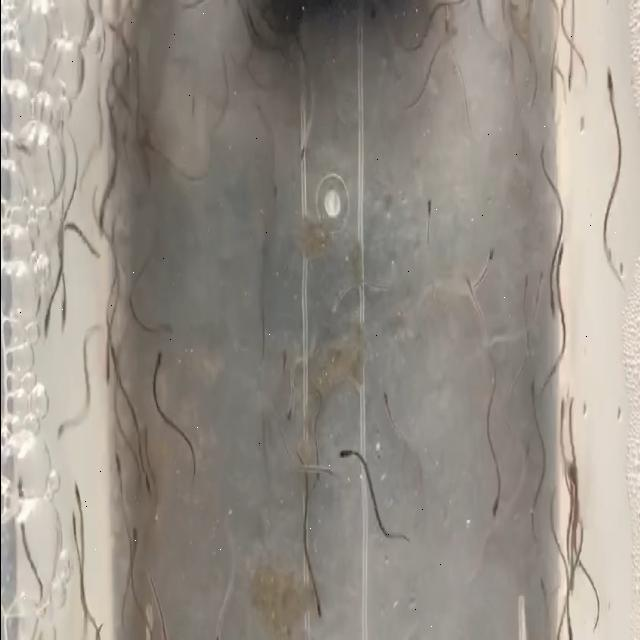active_glass_eel: (520, 433, 536, 478), (12, 470, 28, 510), (565, 455, 579, 497), (480, 236, 496, 272), (378, 380, 392, 420), (604, 66, 616, 112), (520, 264, 532, 310), (110, 447, 124, 485), (423, 197, 437, 234), (57, 291, 68, 335), (69, 478, 82, 515), (548, 280, 560, 320), (463, 272, 478, 304), (270, 177, 282, 214), (155, 318, 175, 340), (42, 298, 52, 342), (312, 591, 324, 627), (440, 28, 458, 52), (284, 388, 294, 431), (568, 555, 578, 597), (94, 202, 105, 240), (526, 373, 538, 407), (564, 58, 574, 98), (534, 266, 544, 306), (366, 0, 380, 28), (52, 414, 66, 442), (276, 344, 288, 376), (139, 134, 155, 158), (296, 134, 308, 165), (66, 511, 78, 542), (556, 235, 566, 272), (326, 293, 339, 320), (338, 443, 352, 468), (558, 396, 567, 434), (490, 487, 500, 521), (142, 471, 152, 505), (440, 6, 452, 34), (536, 572, 546, 604), (564, 618, 578, 640), (546, 72, 556, 102), (154, 344, 164, 374), (104, 352, 112, 389), (306, 473, 318, 497), (130, 527, 140, 551)
